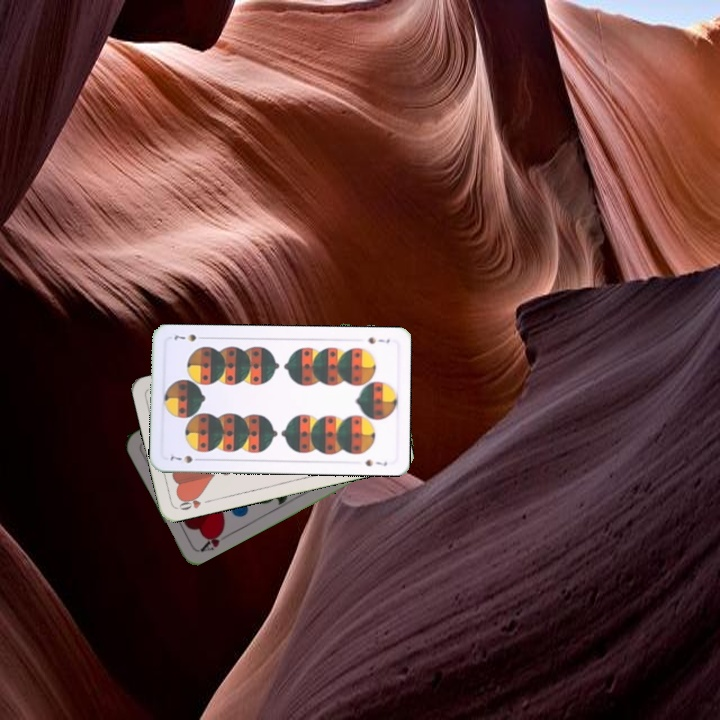HA: (196, 525, 227, 555)
HO: (174, 491, 214, 513)
S7: (166, 451, 205, 466), (364, 333, 392, 346)
